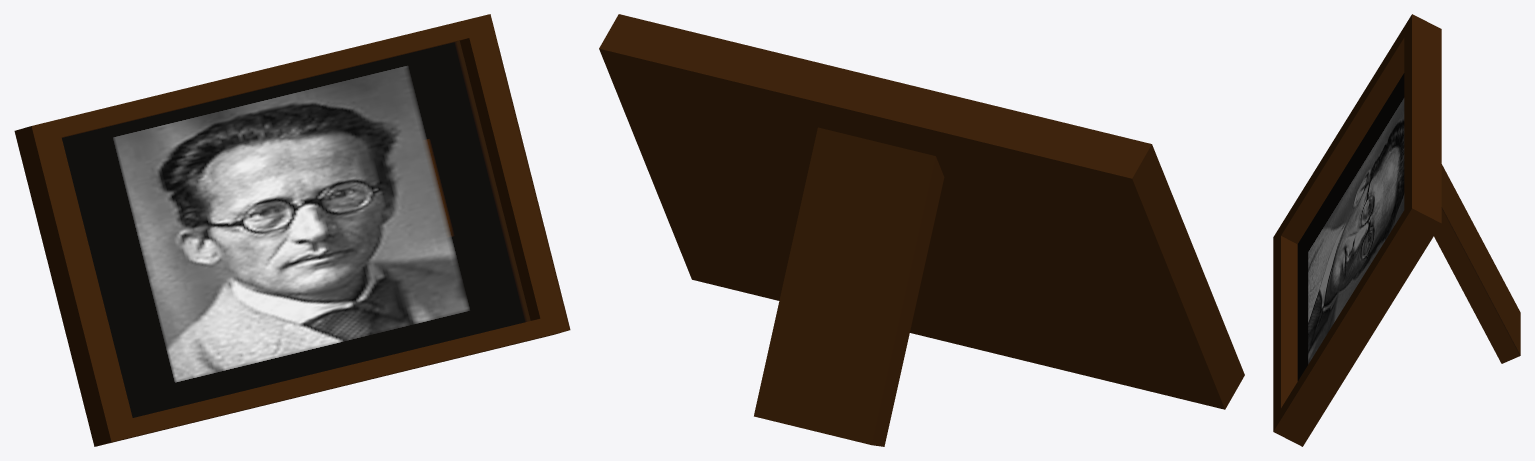
The model's file is picture.fbx.
The picture shows the model from 3 angles, left to right: view 1: azimuth 30°, elevation 25°; view 2: azimuth 150°, elevation 25°; view 3: azimuth 270°, elevation 25°; orthographic projection. The views are drawn at different scales.
Visible parts, largest first — view 1: Cube; view 2: Cube; view 3: Cube.
Boxes of the visible parts, bbox=[...] form: Cube: bbox=[14, 14, 570, 446]; Cube: bbox=[599, 14, 1244, 446]; Cube: bbox=[1273, 14, 1520, 446].
Size of the model in its own units: 600 by 343 by 323.
1 material, 1 textured.
